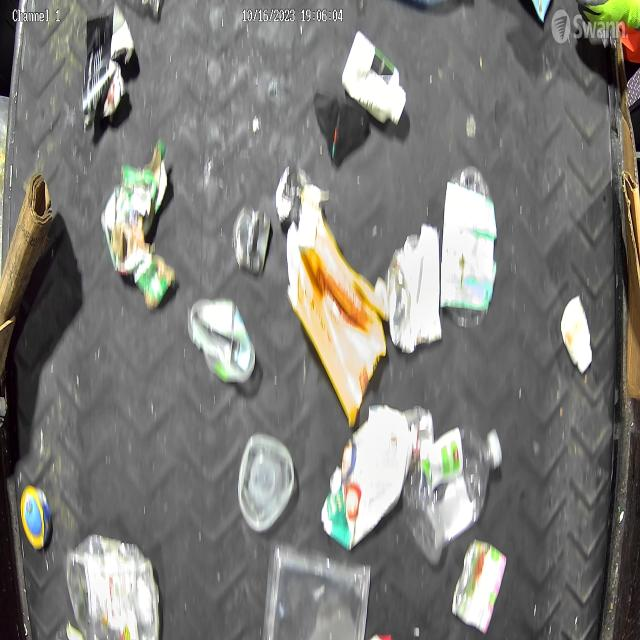can: (389, 223, 444, 355), (189, 296, 255, 382), (452, 538, 508, 634), (233, 205, 270, 271)
non_white_jug: (286, 183, 388, 427)
plastic_bottle: (403, 424, 503, 564)
